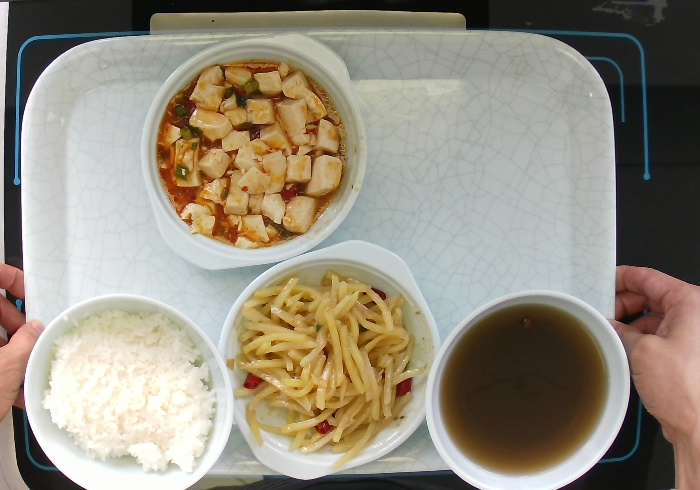JYsf-Fan_Wan: (423, 287, 632, 490), (22, 291, 235, 490)
JYsf-Shuang_Er_Pan: (139, 29, 369, 272), (216, 238, 443, 481)
